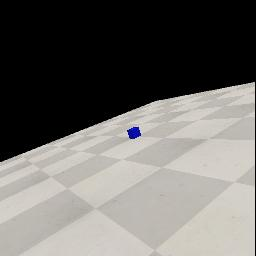box: (127, 127, 141, 139)
